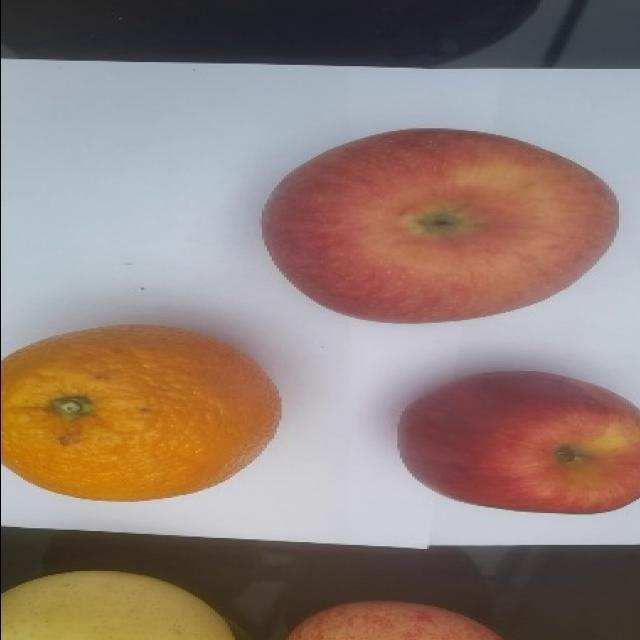Apple: (260, 126, 619, 324), (396, 369, 639, 514), (286, 599, 504, 639)
Orange: (0, 322, 282, 501)
